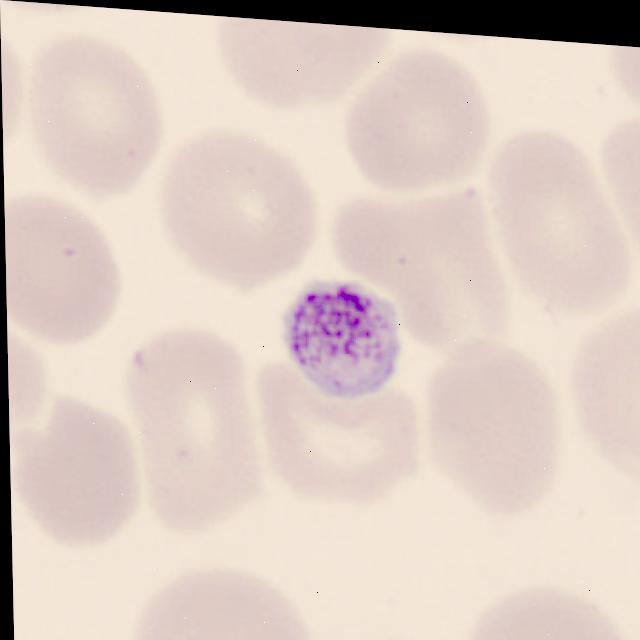platelets: (272, 263, 415, 418)
rbc: (329, 183, 528, 344), (489, 126, 635, 328), (161, 120, 319, 302), (123, 327, 263, 520), (434, 327, 573, 512), (338, 33, 497, 190), (28, 23, 169, 195), (261, 357, 419, 508), (12, 387, 144, 556), (4, 191, 134, 353), (117, 556, 330, 640), (213, 16, 396, 112), (564, 305, 640, 478), (462, 579, 640, 640), (7, 331, 53, 431), (0, 14, 28, 154), (331, 615, 477, 640), (605, 45, 640, 113)
